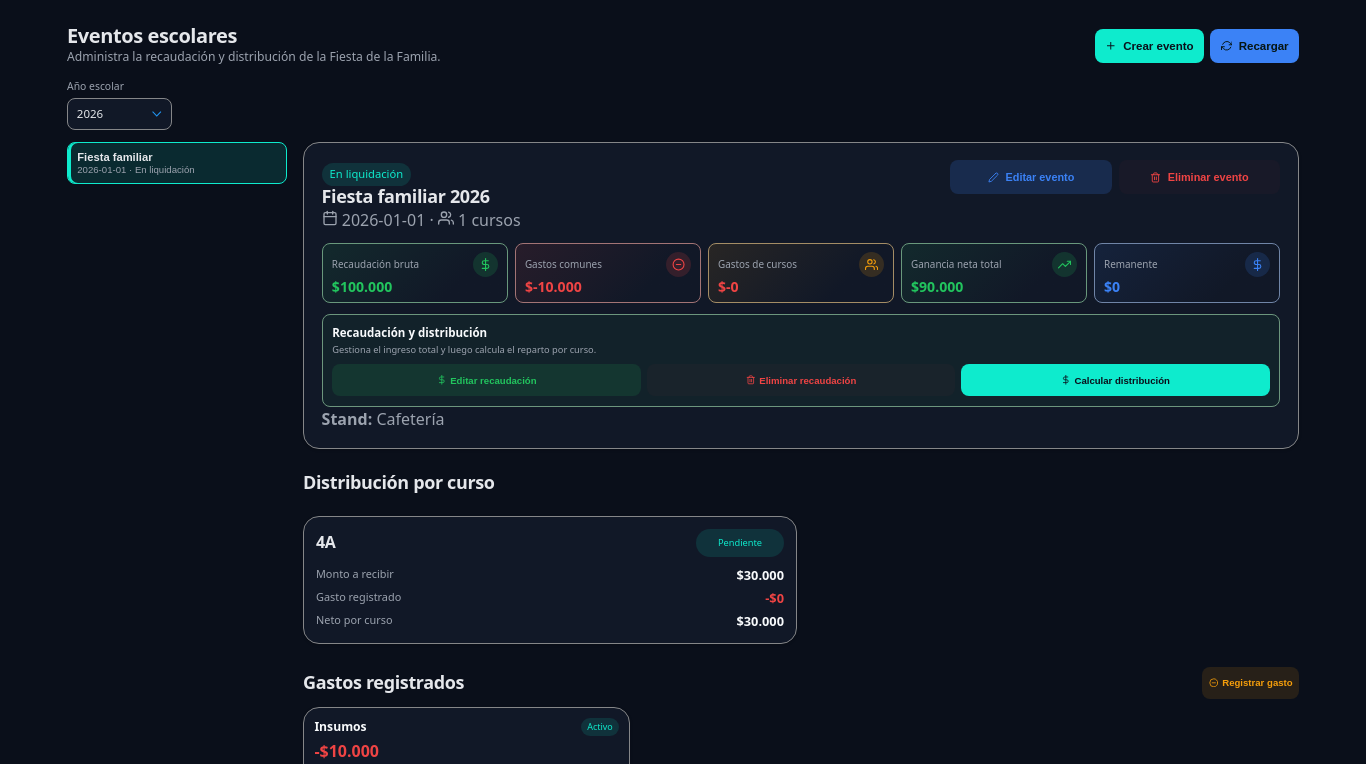
school events connected to HTTP › preserves the event form and shows server validation or fallback on rejection: {"errors":{"name":"Nombre duplicado","date":"Fecha inválida","ignored":""}}
Click the button "Editar evento". click: (1031, 177)
box: [950,160,1112,194]
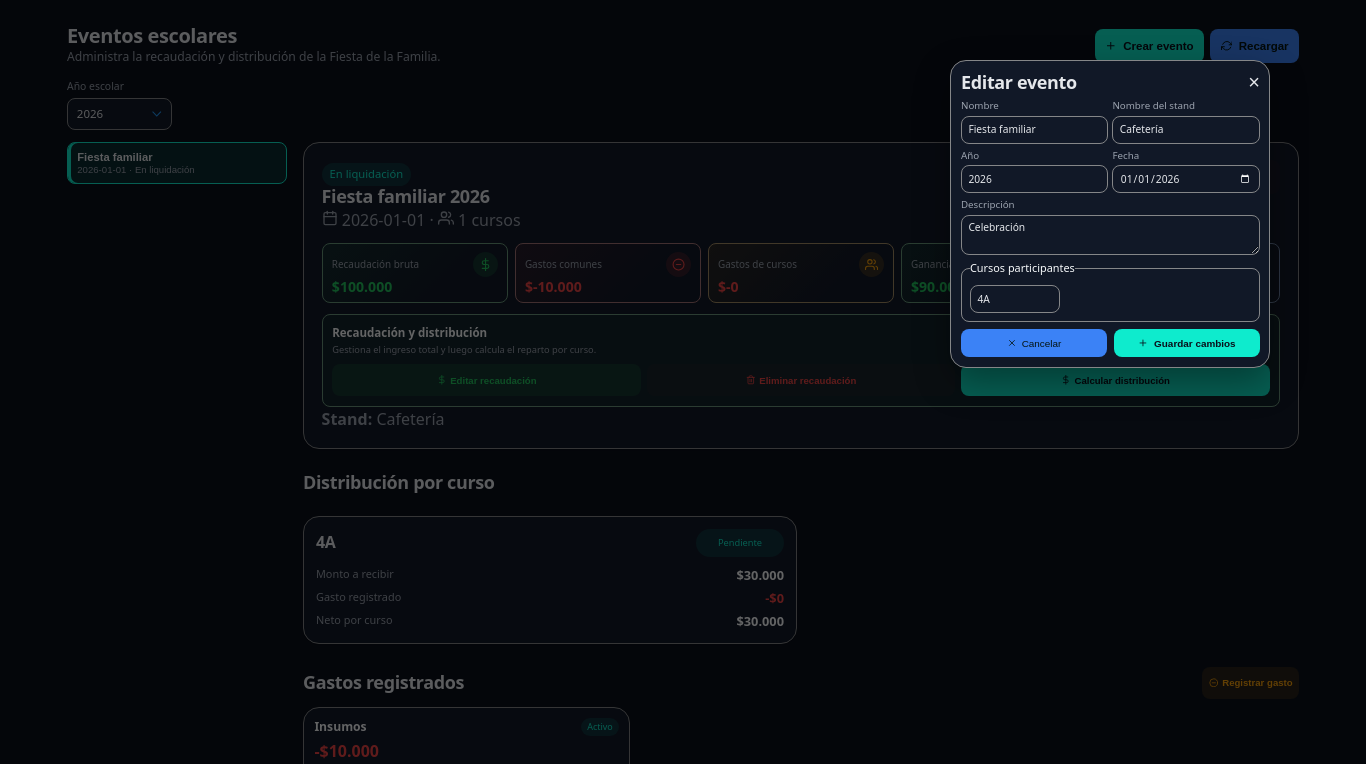
Click the button "Guardar cambios". click: (1187, 343)
box: [1114,329,1260,357]
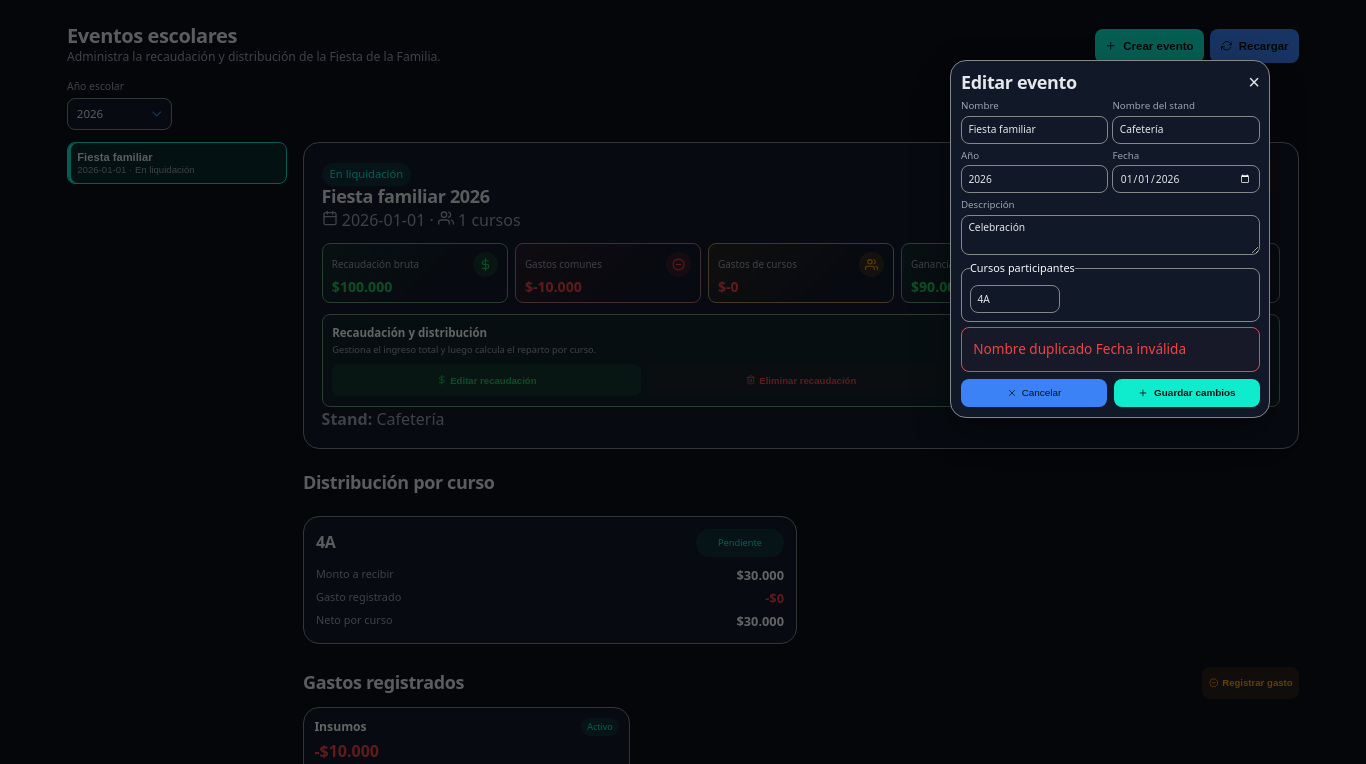
Expected: the field labelled "Nombre" holds "Fiesta familiar", [961,116,1108,144]
Expected: the message "Nombre duplicado Fecha inválida" is shown, [961,327,1260,372]
Expected: the message reads "Nombre duplicado Fecha inválida", [973,339,1186,358]
